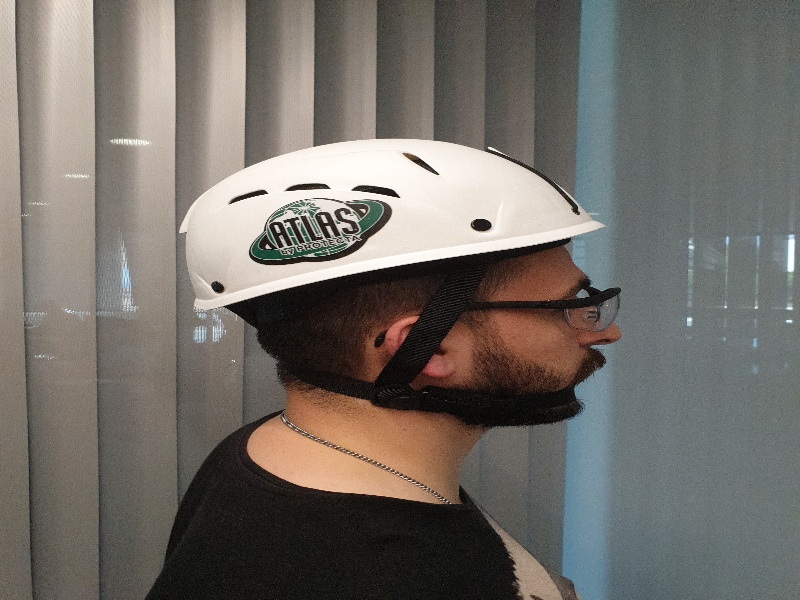Baret: (184, 139, 605, 294)
Gozluk: (463, 284, 624, 330)
